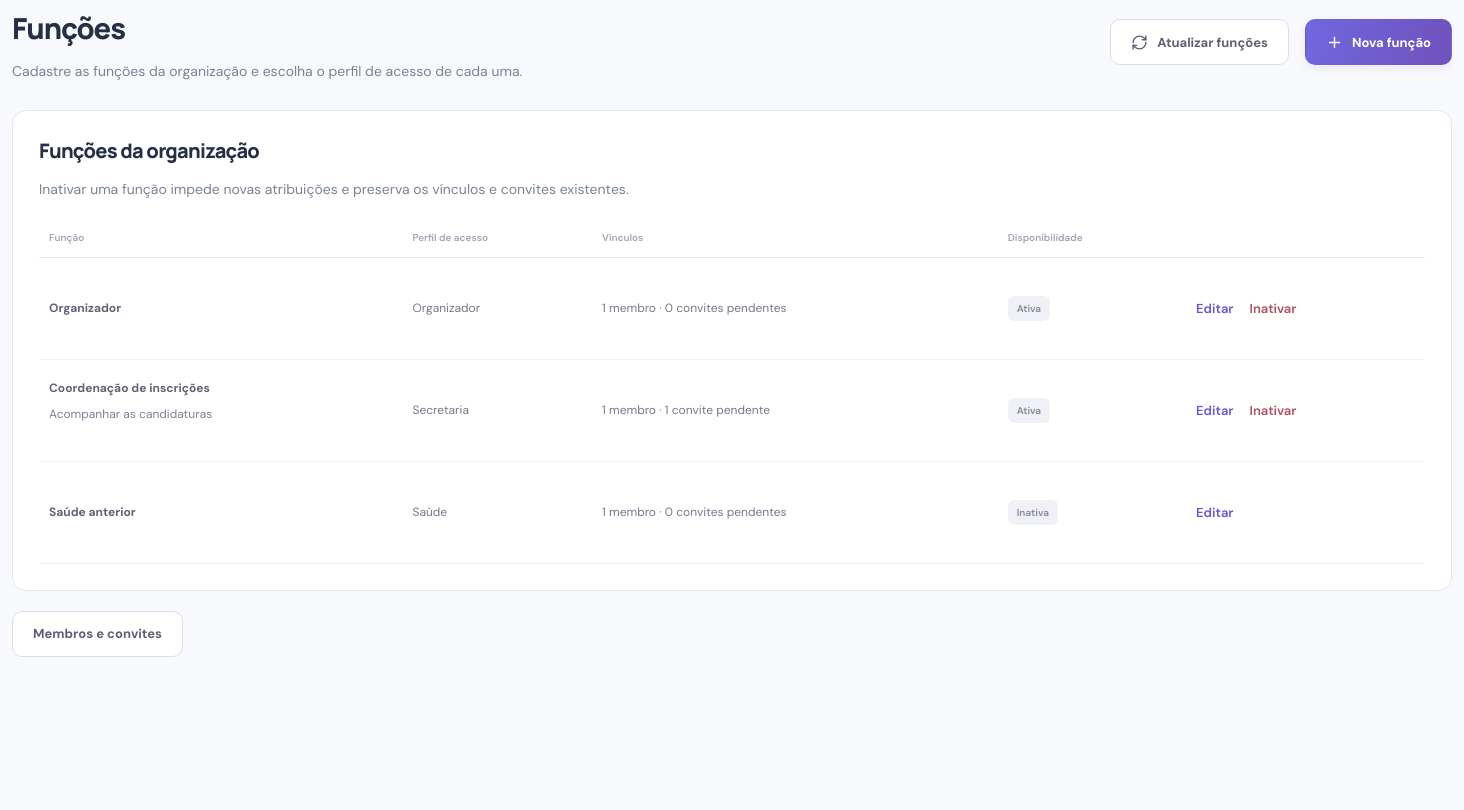
Test: Catálogo de funções › avisa o impacto da mudança e apresenta quantos vínculos foram atualizados
This screenshot has width=1464, height=810.
Click the button with aria-label "Editar Coordenação de inscrições" at (1215, 410), box top-left (1196, 392), bottom-right (1234, 429)
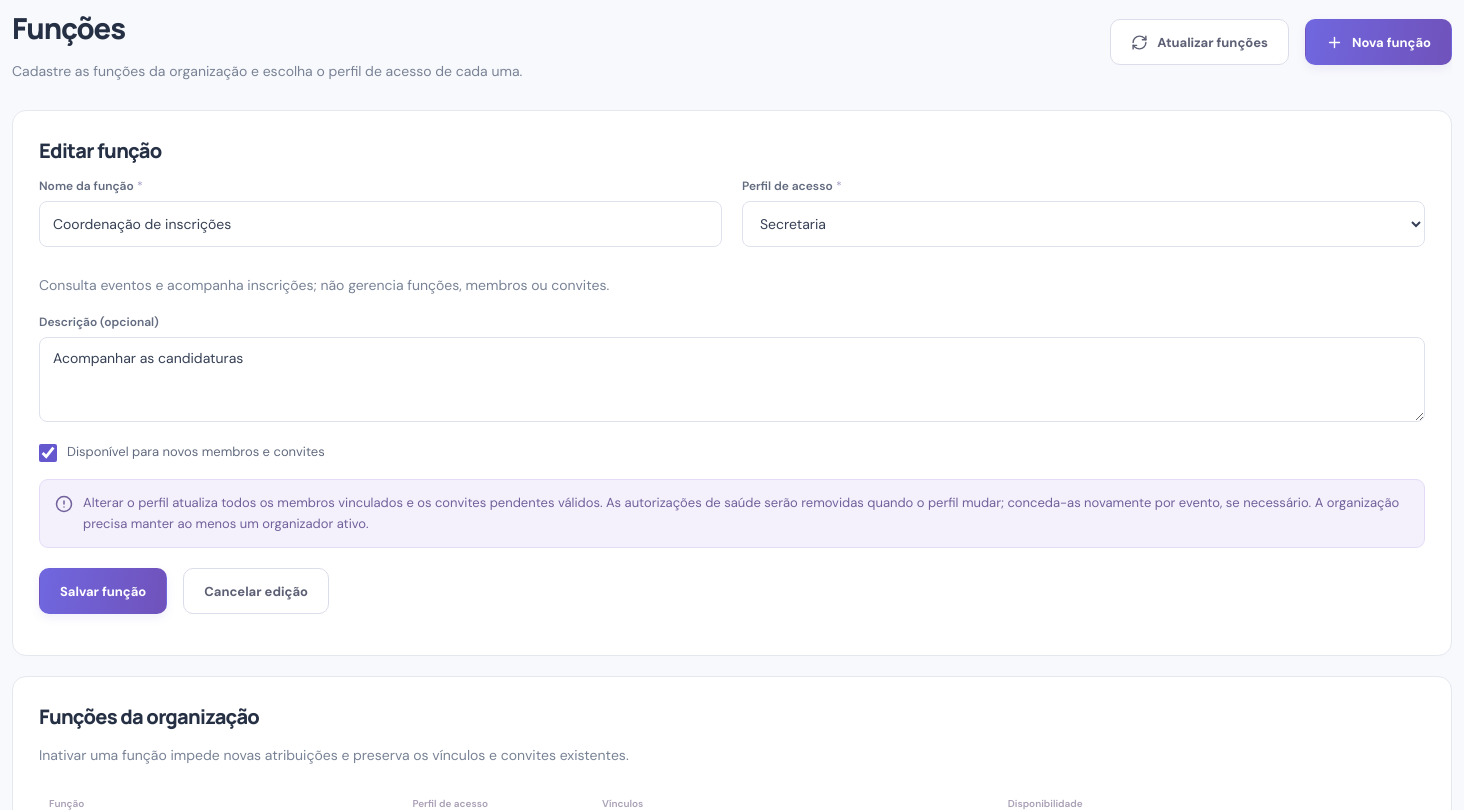
Expected: the text "Alterar o perfil atualiza todos os membros" is shown, top-left (83, 494), bottom-right (1399, 532)
Select "Saúde" in the dropdown labelled "Perfil de acesso *" at (1084, 224), box top-left (742, 201), bottom-right (1425, 247)
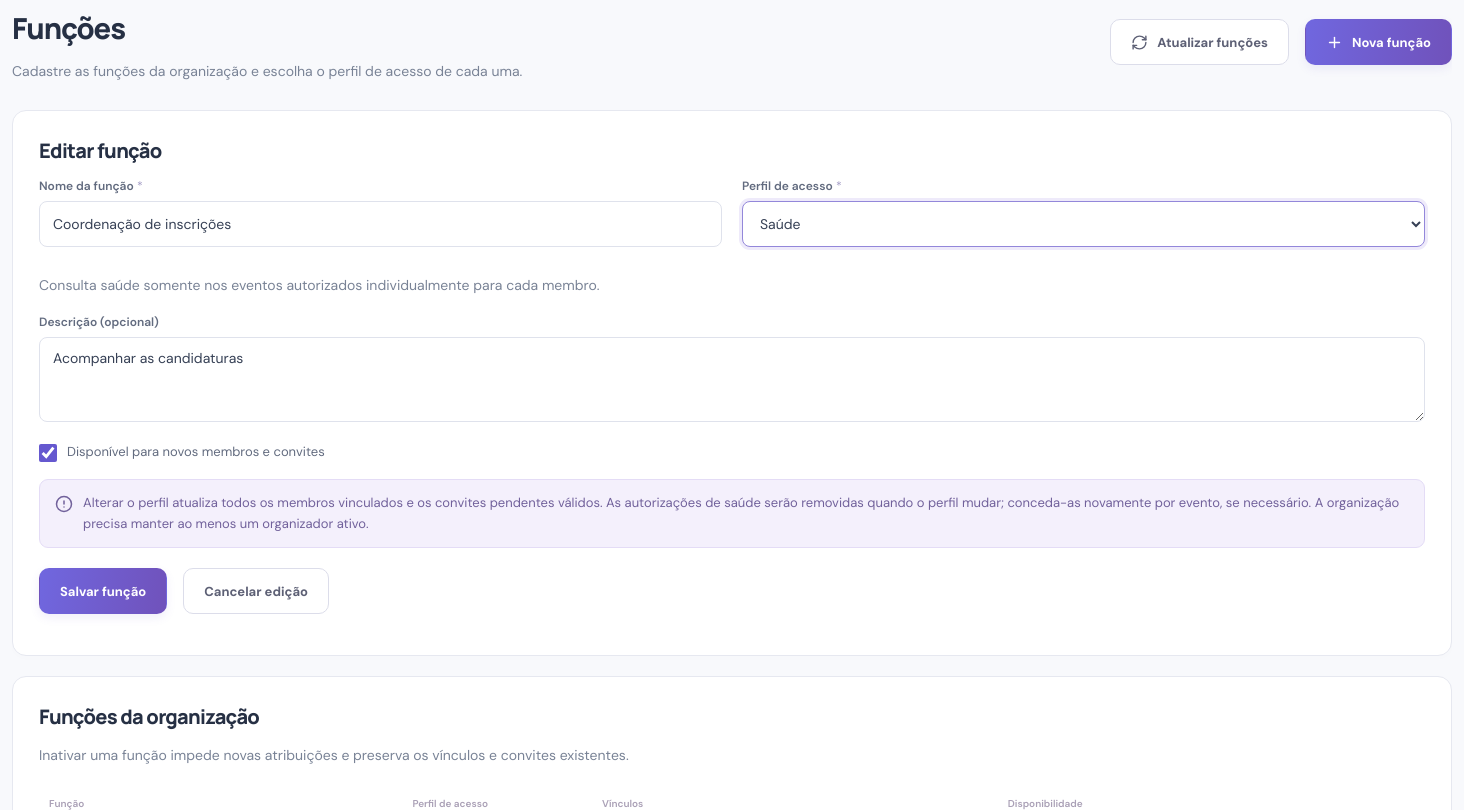
Expected: the text "Consulta saúde somente nos eventos autorizados" is shown, top-left (39, 276), bottom-right (600, 294)
Click the button "Salvar função" at (103, 591), box top-left (39, 568), bottom-right (167, 614)
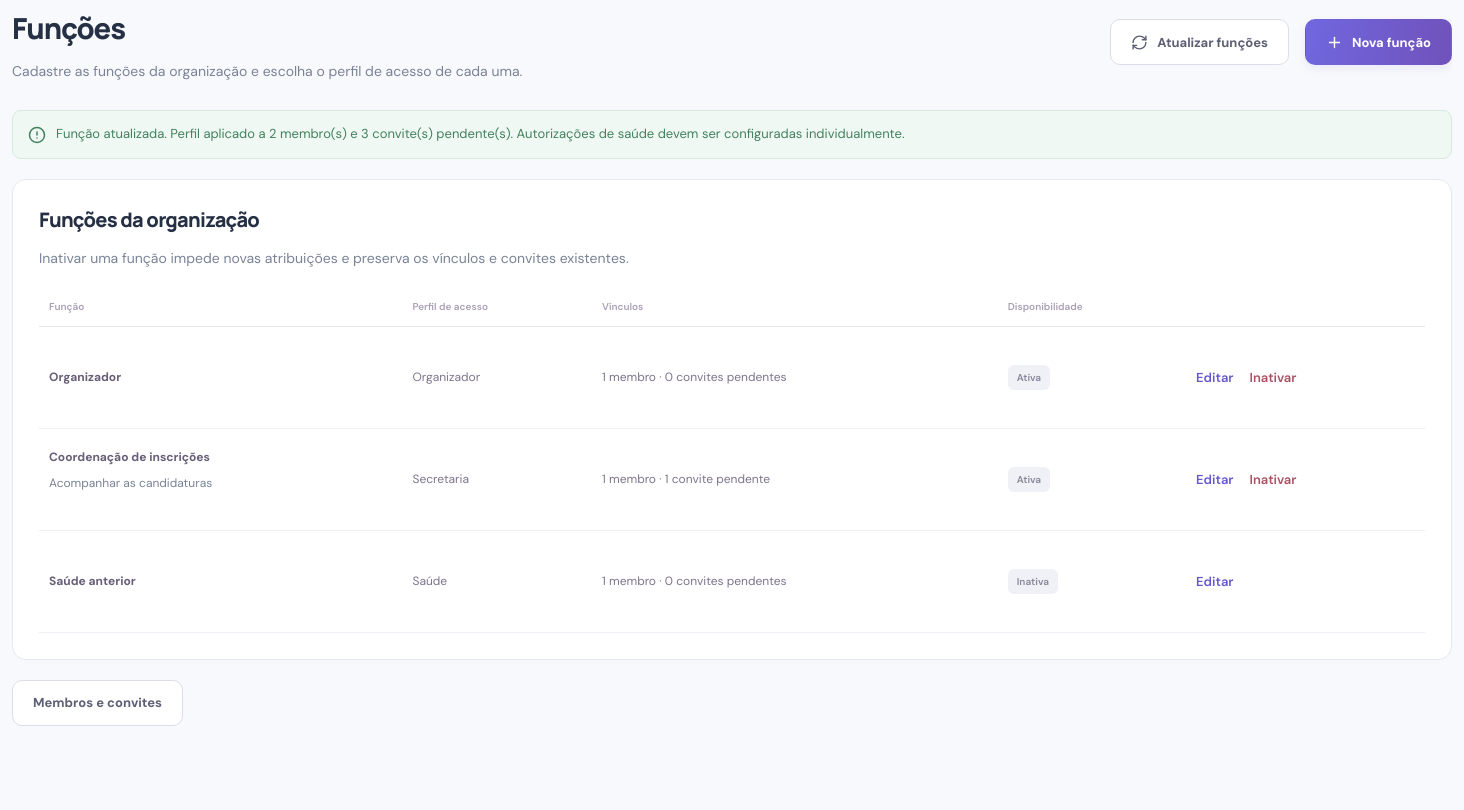
Expected: the text "Perfil aplicado a 2 membro(s) e 3 convite(s)" is shown, top-left (56, 125), bottom-right (904, 142)
